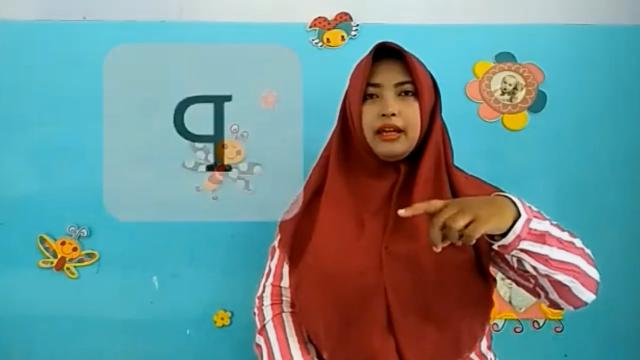P: (393, 191, 517, 255)
